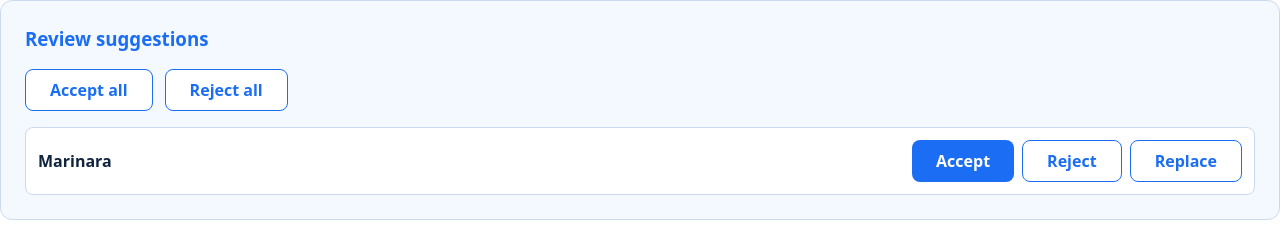
Test: SuggestionReview manual-fill note › shows a manual-fill note after Reject all cannot fill every slot
Step 1. Click the button "Reject all" → click(226, 90), box left=165, top=69, right=288, bottom=111
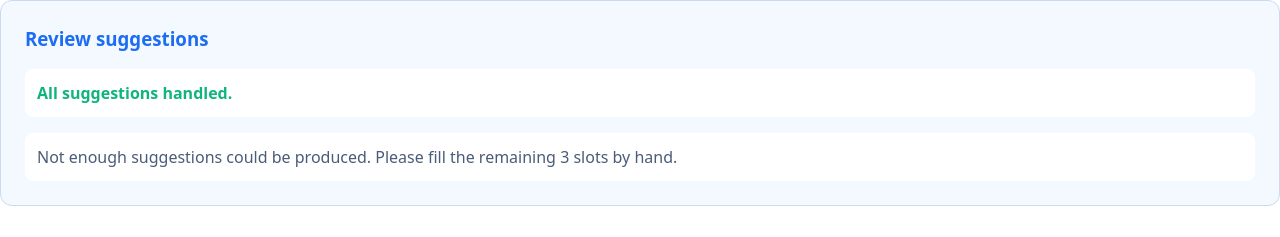
Expected: the text "fill the remaining" is shown, left=37, top=146, right=556, bottom=168
